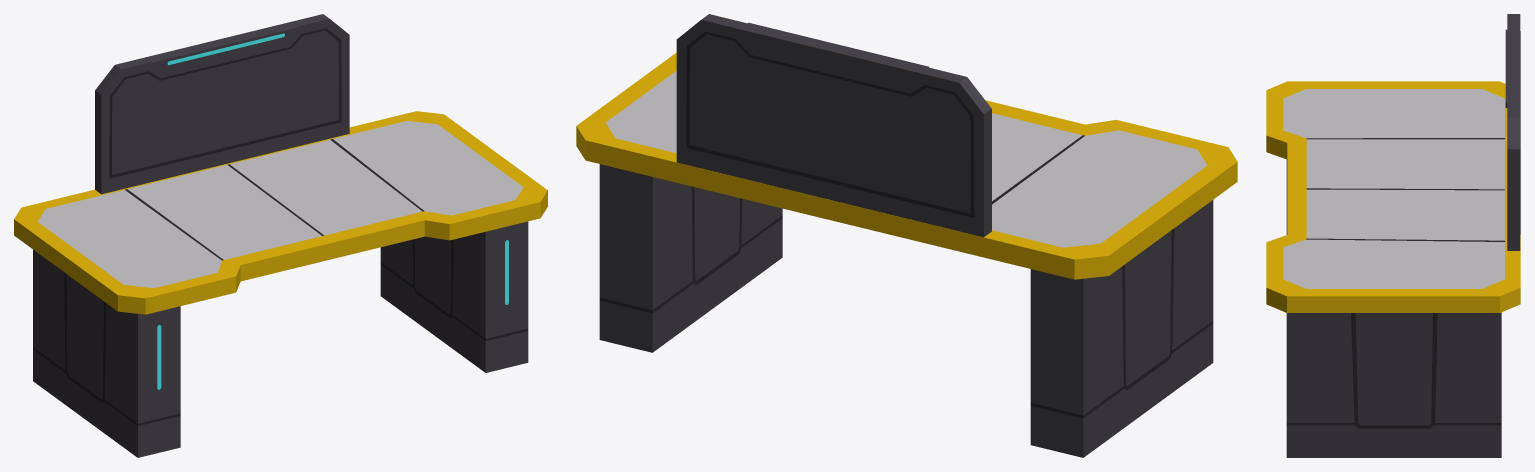
Rendered from SM_Props_Furniture_01.fbx.
3 renders of one model, left to right at view 1: azimuth 30°, elevation 25°; view 2: azimuth 150°, elevation 25°; view 3: azimuth 270°, elevation 25°, orthographic. The views are drawn at different scales.
Parts seen in each view (by area): view 1: SM_Props_Furniture_01; view 2: SM_Props_Furniture_01; view 3: SM_Props_Furniture_01.
Part boxes in pixels (box(x1,y1,x2,y2)): SM_Props_Furniture_01: box(14, 14, 547, 457); SM_Props_Furniture_01: box(576, 14, 1237, 457); SM_Props_Furniture_01: box(1266, 14, 1520, 457).
Size of the model in its own units: 2 by 1.28 by 1.
